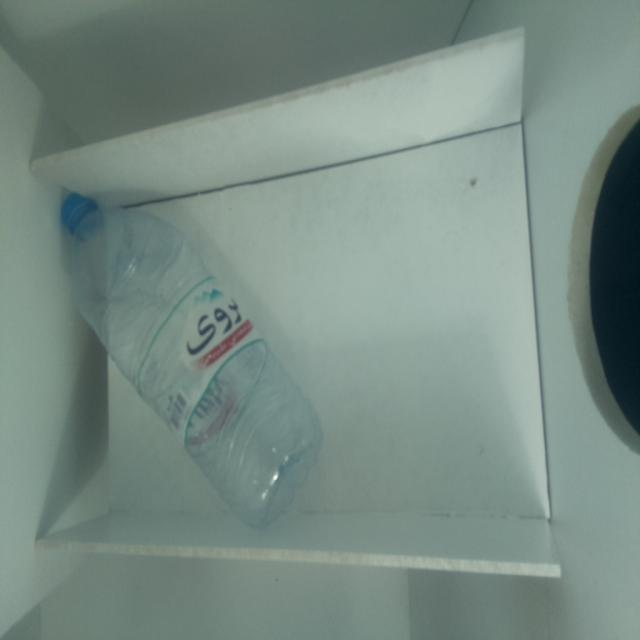Anorganik: (56, 180, 326, 528)
